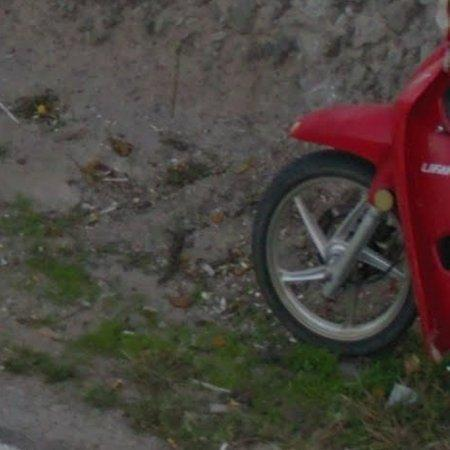motorcycles: (253, 31, 450, 355)
